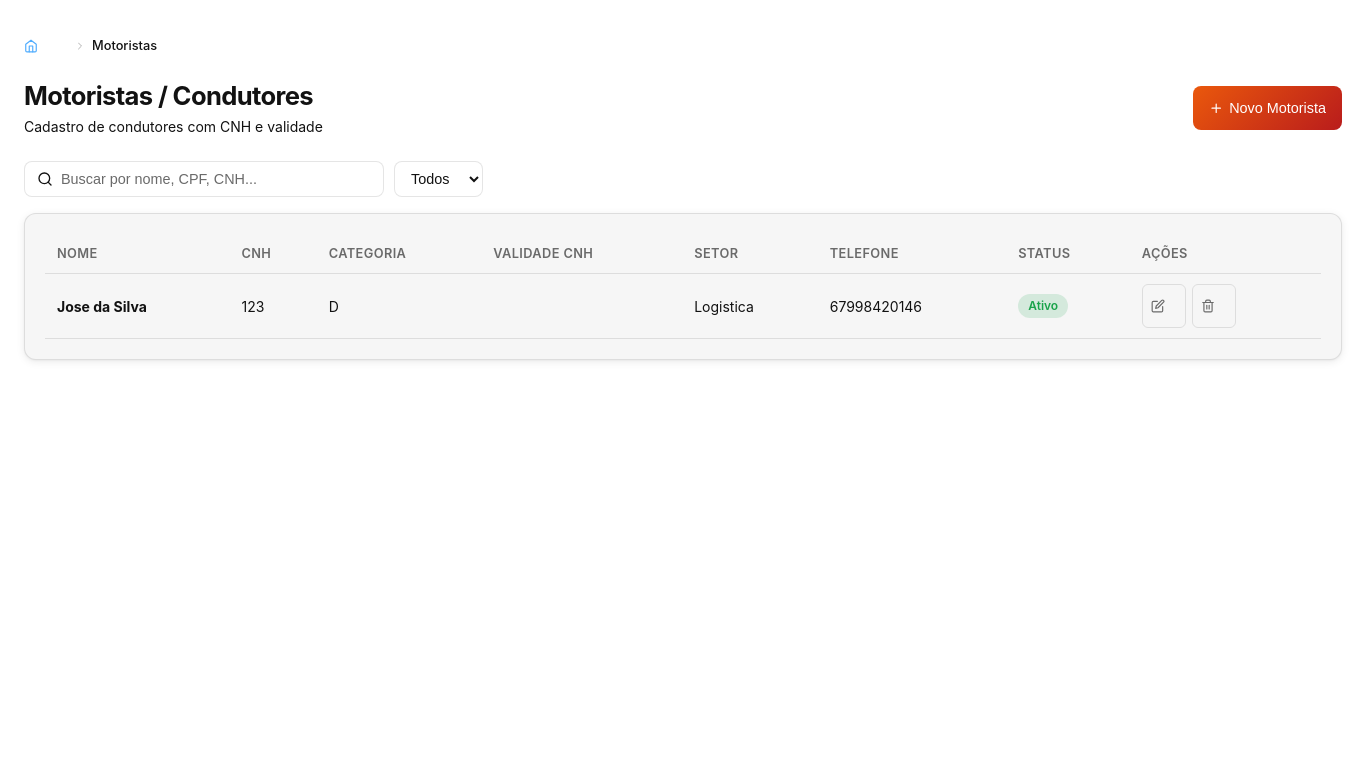
FrotasEntityPage — telefone do motorista › o registro do banco abre a edicao ja formatado
Click the 1st button with class "frotas-action-btn" at (1164, 306), box 1142,284 -> 1186,328
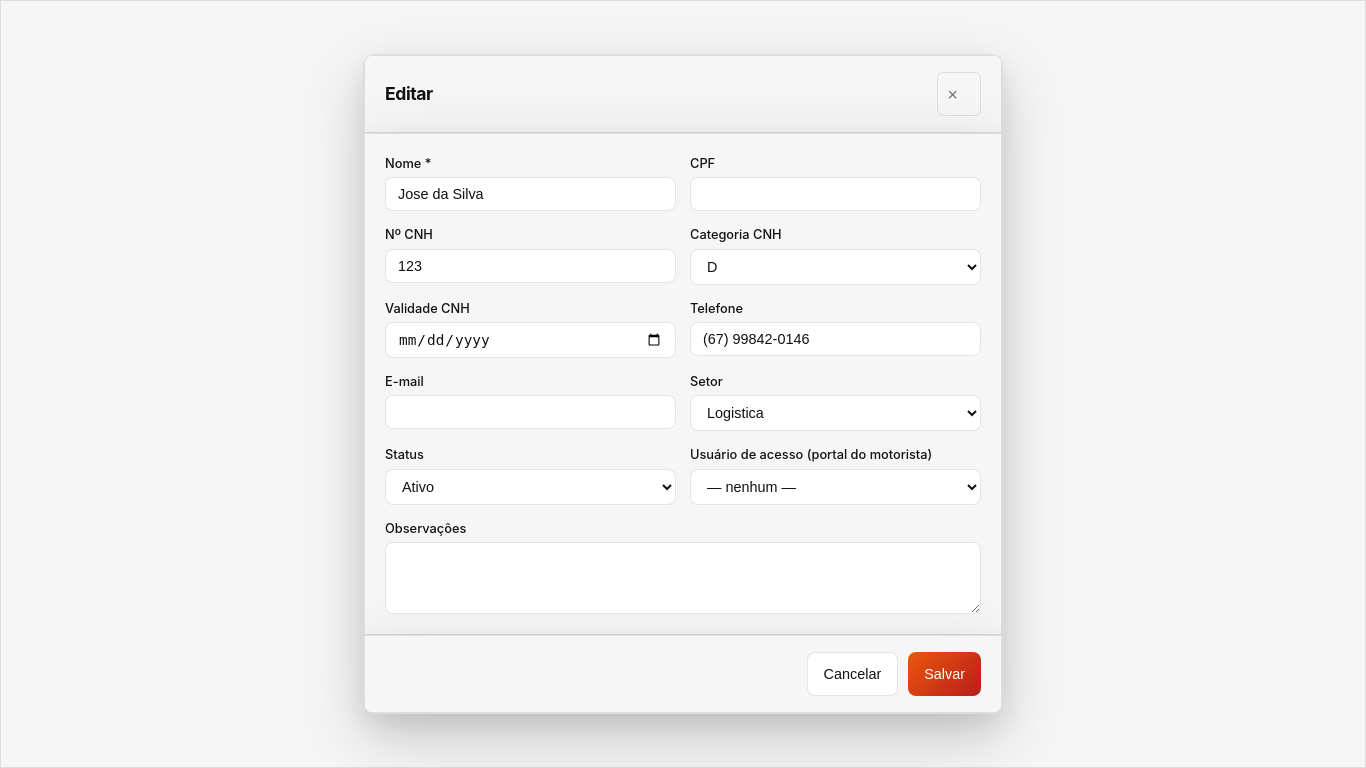
expect the 4th field holds "(67) 99842-0146": met, box 690,322 -> 981,356
